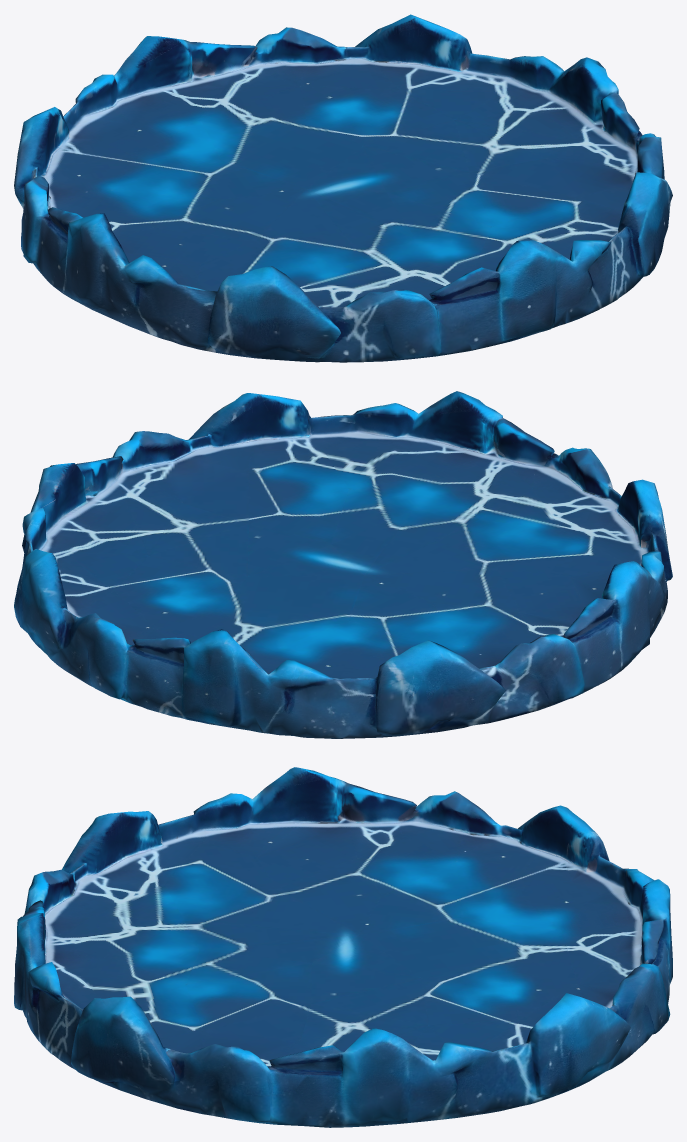
The model's file is standee-web.glb.
3 views of the same model, one above another, from view 1: azimuth 30°, elevation 25°; view 2: azimuth 150°, elevation 25°; view 3: azimuth 270°, elevation 25° (orthographic).
Size of the model in its own units: 2 by 0.3019 by 2.
Materials: 1 (1 with a texture image).
